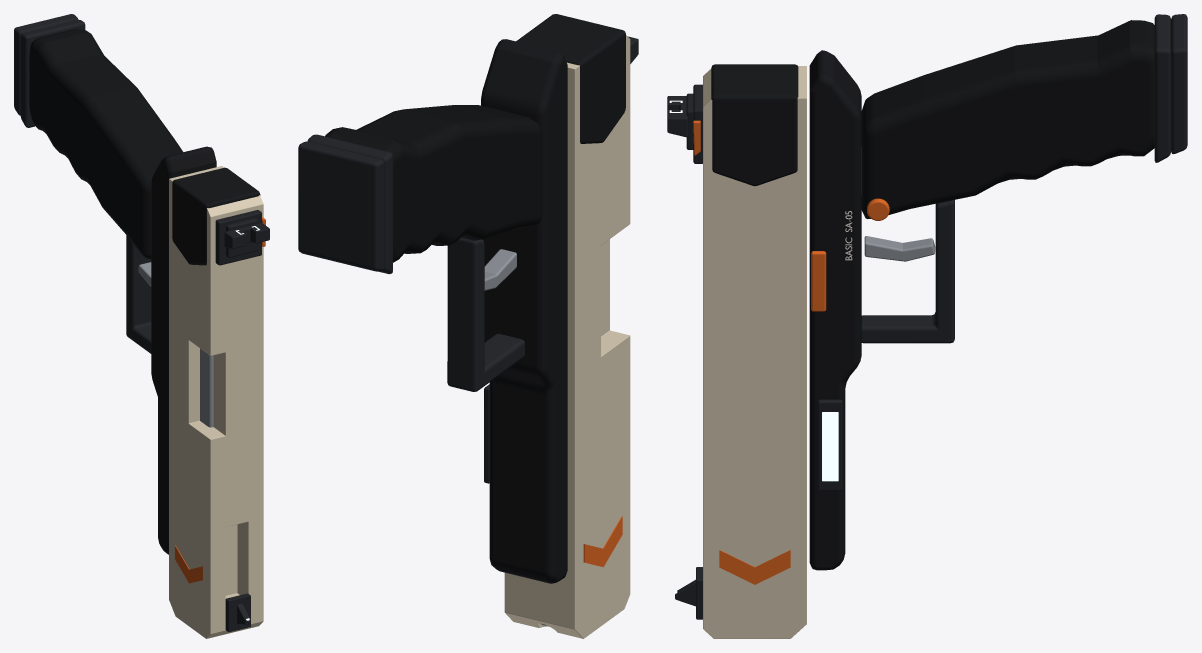
Rendered from BASIC-05-v2.1.fbx.
3 renders of one model, left to right at view 1: azimuth 30°, elevation 25°; view 2: azimuth 150°, elevation 25°; view 3: azimuth 270°, elevation 25°, orthographic. The views are drawn at different scales.
Visible parts, largest first — view 1: slide, grip, frame, slide_cap, trigger_guard, sight_mount, grip_cap, magazine_base, barrel_hood, sight_front, sight_rear, band_side; view 2: frame, slide, grip, magazine_base, trigger_guard, slide_cap, grip_cap, trigger, band_side, counter_bezel; view 3: slide, grip, frame, slide_cap, trigger_guard, grip_cap, magazine_base, trigger, band_side, counter_bezel, ammo_counter, slide_stop (+3 smaller).
Part boxes in pixels (<box>): slide: <box>169,166,263,638</box>; grip: <box>29,29,182,258</box>; frame: <box>151,146,216,554</box>; slide_cap: <box>172,167,260,265</box>; trigger_guard: <box>126,235,151,353</box>; sight_mount: <box>215,210,261,265</box>; grip_cap: <box>20,19,85,127</box>; magazine_base: <box>14,14,78,115</box>; barrel_hood: <box>200,348,213,427</box>; sight_front: <box>225,593,250,631</box>; sight_rear: <box>224,223,269,248</box>; band_side: <box>175,545,203,583</box>; frame: <box>481,39,567,583</box>; slide: <box>504,35,630,638</box>; grip: <box>325,105,542,262</box>; magazine_base: <box>298,141,384,271</box>; trigger_guard: <box>447,237,524,391</box>; slide_cap: <box>516,14,625,143</box>; grip_cap: <box>307,134,392,274</box>; trigger: <box>484,249,516,290</box>; band_side: <box>583,516,622,567</box>; counter_bezel: <box>484,384,489,483</box>; slide: <box>703,66,806,638</box>; grip: <box>861,20,1154,218</box>; frame: <box>809,50,861,570</box>; slide_cap: <box>711,64,798,186</box>; trigger_guard: <box>861,200,954,343</box>; grip_cap: <box>1154,14,1170,162</box>; magazine_base: <box>1171,14,1187,153</box>; trigger: <box>864,236,935,261</box>; band_side: <box>719,550,790,584</box>; counter_bezel: <box>818,399,842,490</box>; ammo_counter: <box>822,412,838,481</box>; slide_stop: <box>811,251,826,311</box>.
Size of the model in its own units: 0.0335 by 0.2386 by 0.19.
